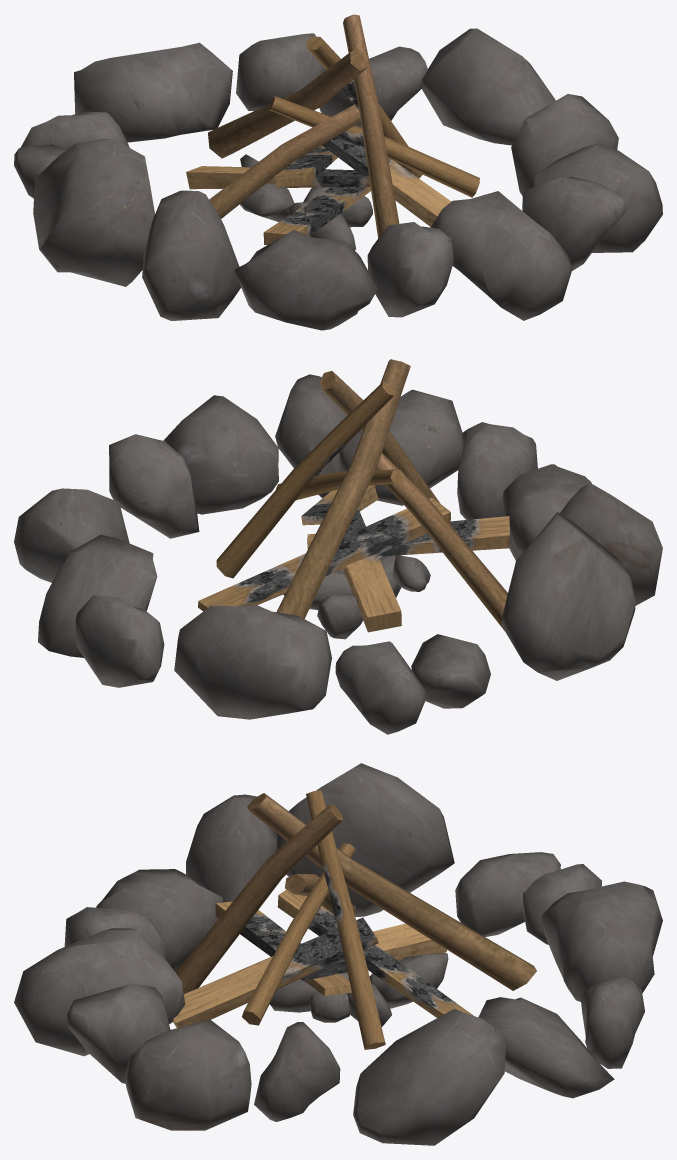
File: Ht_gouhuo_01.FBX
3 renders of one model, top to bottom at view 1: azimuth 30°, elevation 25°; view 2: azimuth 150°, elevation 25°; view 3: azimuth 270°, elevation 25°, orthographic. The views are drawn at different scales.
Parts seen in each view (by area): view 1: Ht_gouhuo_01; view 2: Ht_gouhuo_01; view 3: Ht_gouhuo_01.
Part boxes in pixels (bbox=[...]): Ht_gouhuo_01: bbox=[14, 14, 662, 330]; Ht_gouhuo_01: bbox=[14, 359, 662, 734]; Ht_gouhuo_01: bbox=[14, 763, 662, 1145].
Size of the model in its own units: 133 by 52.36 by 134.
